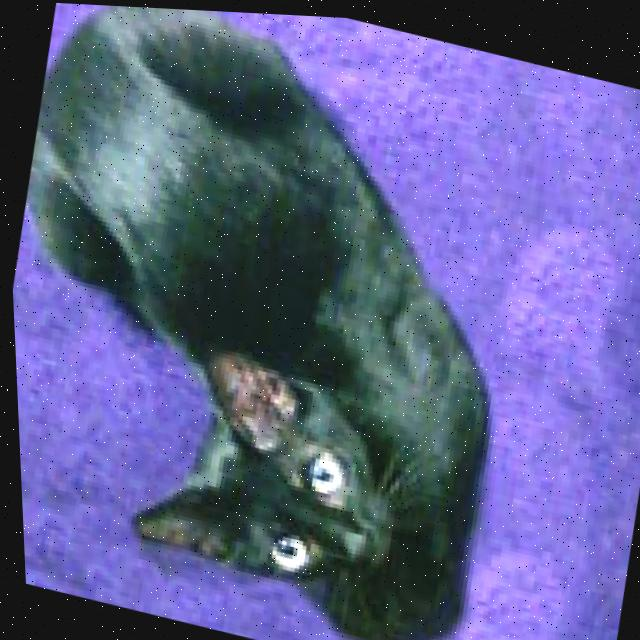Bombay: (0, 0, 566, 640)
